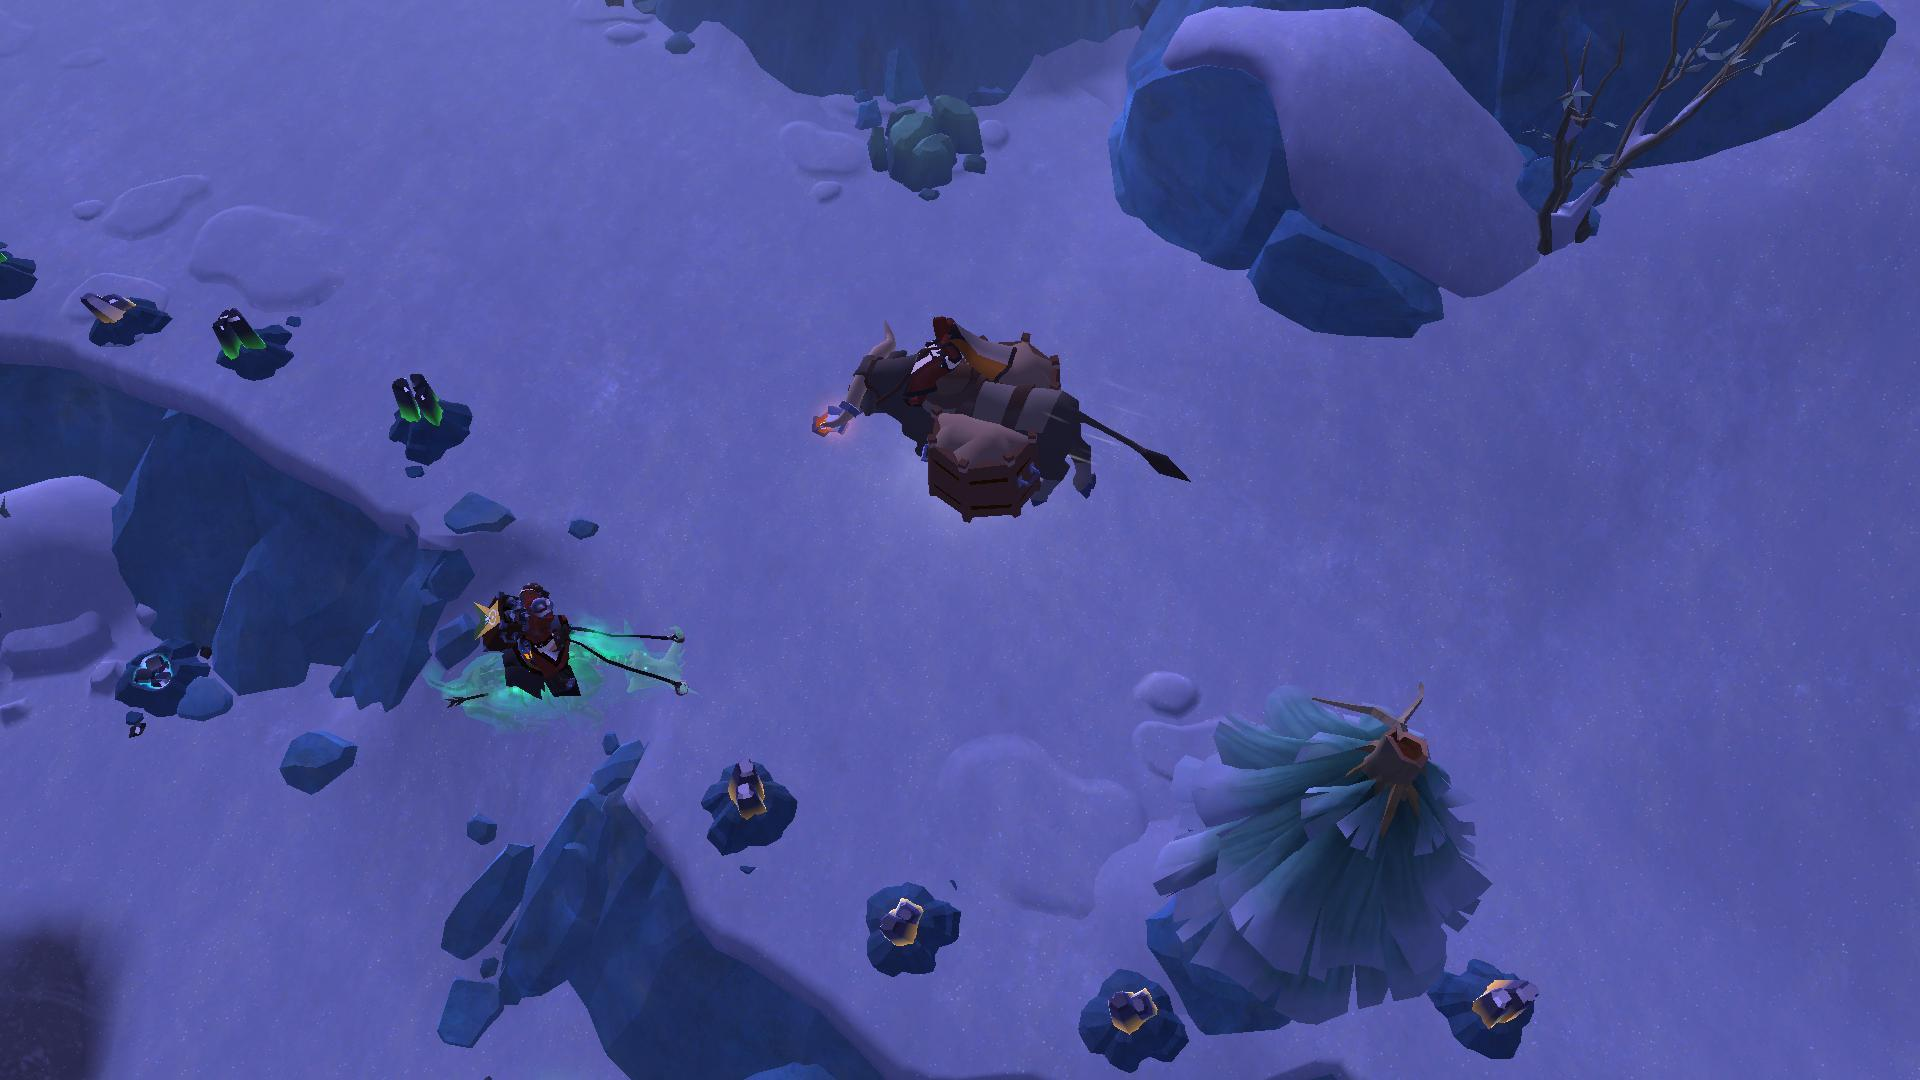ore_t3: (384, 365, 444, 434), (206, 301, 264, 364)
rock_t3: (847, 82, 996, 200)
